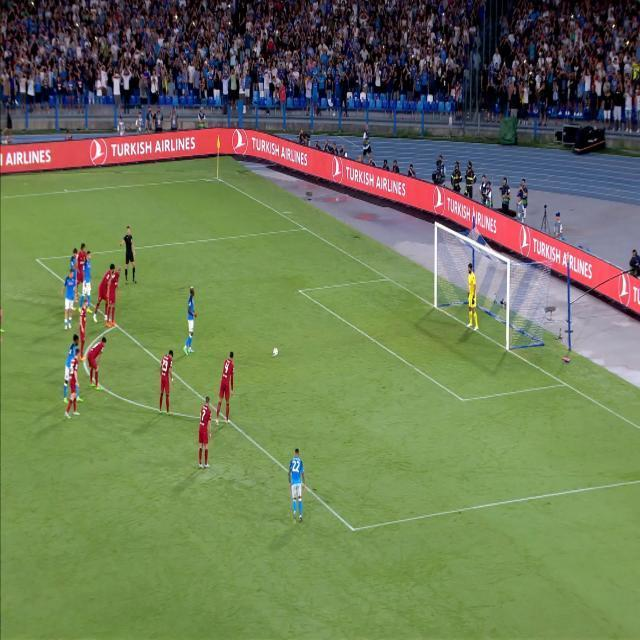ball: (272, 346, 279, 356)
goalkeeper: (464, 262, 479, 333)
player: (284, 443, 309, 528), (193, 394, 214, 471), (178, 283, 199, 356), (217, 344, 235, 426), (86, 332, 109, 389), (64, 267, 84, 328), (97, 262, 116, 320), (158, 347, 174, 409), (109, 265, 123, 326), (68, 351, 81, 413), (65, 335, 78, 393)
referee: (120, 226, 140, 285)
